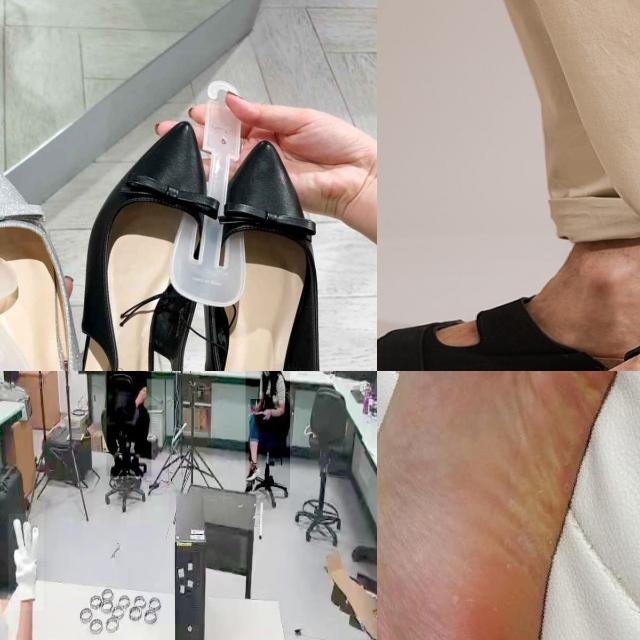Barefoots: (377, 371, 625, 640)
Sandals: (75, 106, 349, 371), (443, 262, 640, 371)
hand_glove: (8, 514, 44, 610)
hand_noglove: (250, 399, 262, 412), (262, 407, 272, 421)
person: (245, 371, 290, 492), (106, 371, 151, 477)
shoes: (127, 453, 145, 483), (244, 452, 260, 484)
